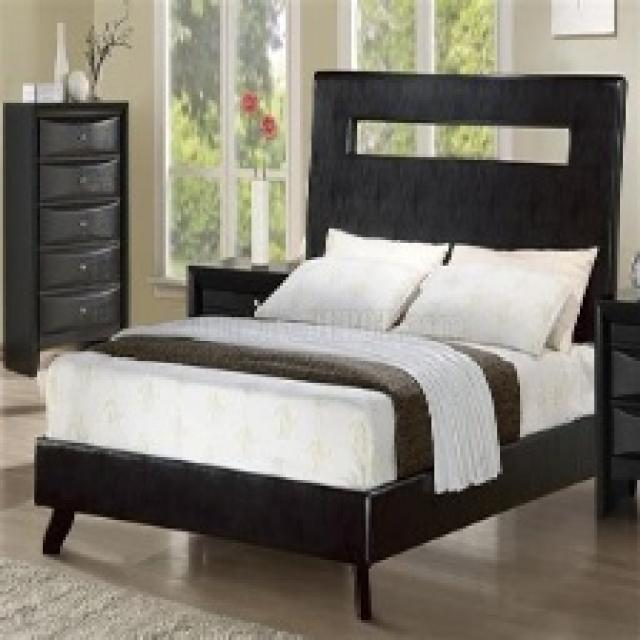Bed: (31, 69, 626, 620)
